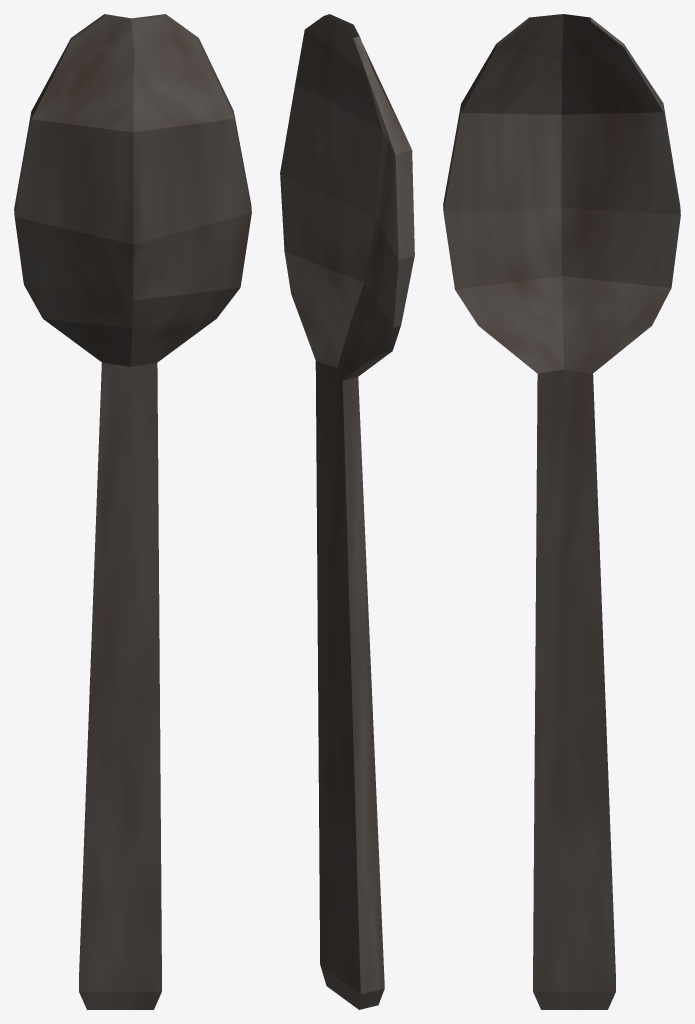
Rendered from SpoonD3.fbx.
3 renders of one model, left to right at view 1: azimuth 90°, elevation 25°; view 2: azimuth 210°, elevation 25°; view 3: azimuth 270°, elevation 25°, orthographic. The views are drawn at different scales.
Parts seen in each view (by area): view 1: spunDirty2; view 2: spunDirty2; view 3: spunDirty2.
Boxes of the visible parts, x1=… form: spunDirty2: x1=14, y1=14, x2=251, y2=1009; spunDirty2: x1=280, y1=14, x2=414, y2=1009; spunDirty2: x1=443, y1=14, x2=680, y2=1009.
Bounding box in the file's own units: 14.06 × 201 × 43.81.
Materials: 1 (1 with a texture image).
